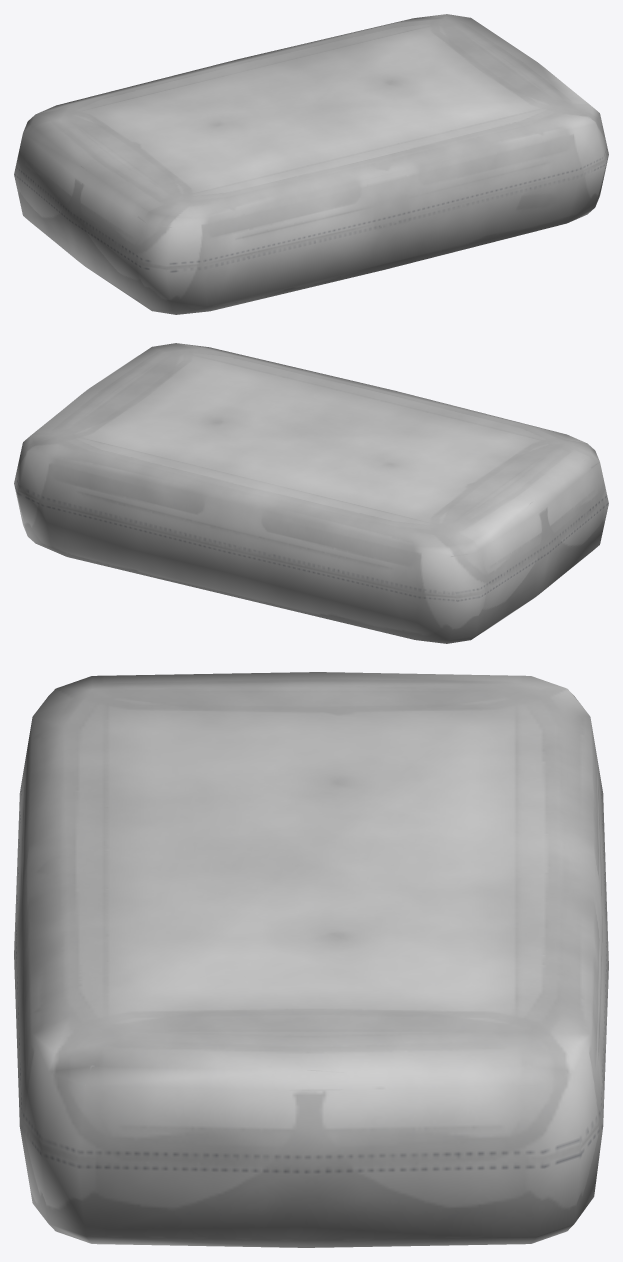
File: LowerTorso_C1.fbx
The picture shows the model from 3 angles, top to bottom: view 1: azimuth 30°, elevation 25°; view 2: azimuth 150°, elevation 25°; view 3: azimuth 270°, elevation 25°; orthographic projection. The views are drawn at different scales.
Visible parts, largest first — view 1: Civ_PilotoLargo_LowerTorso_C1; view 2: Civ_PilotoLargo_LowerTorso_C1; view 3: Civ_PilotoLargo_LowerTorso_C1.
Part boxes in pixels (x1,y1,x2,y2): Civ_PilotoLargo_LowerTorso_C1: (14,14,608,314); Civ_PilotoLargo_LowerTorso_C1: (14,343,608,643); Civ_PilotoLargo_LowerTorso_C1: (14,672,608,1247).
Size of the model in its own units: 2.42 by 0.5435 by 1.43.
